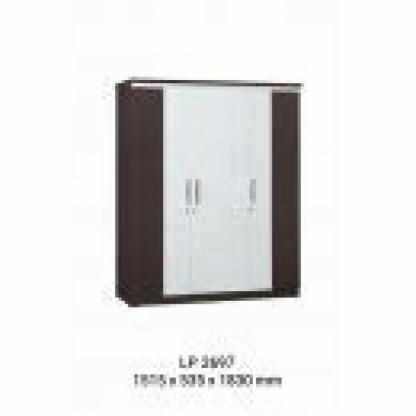Closet: (113, 76, 308, 305)
